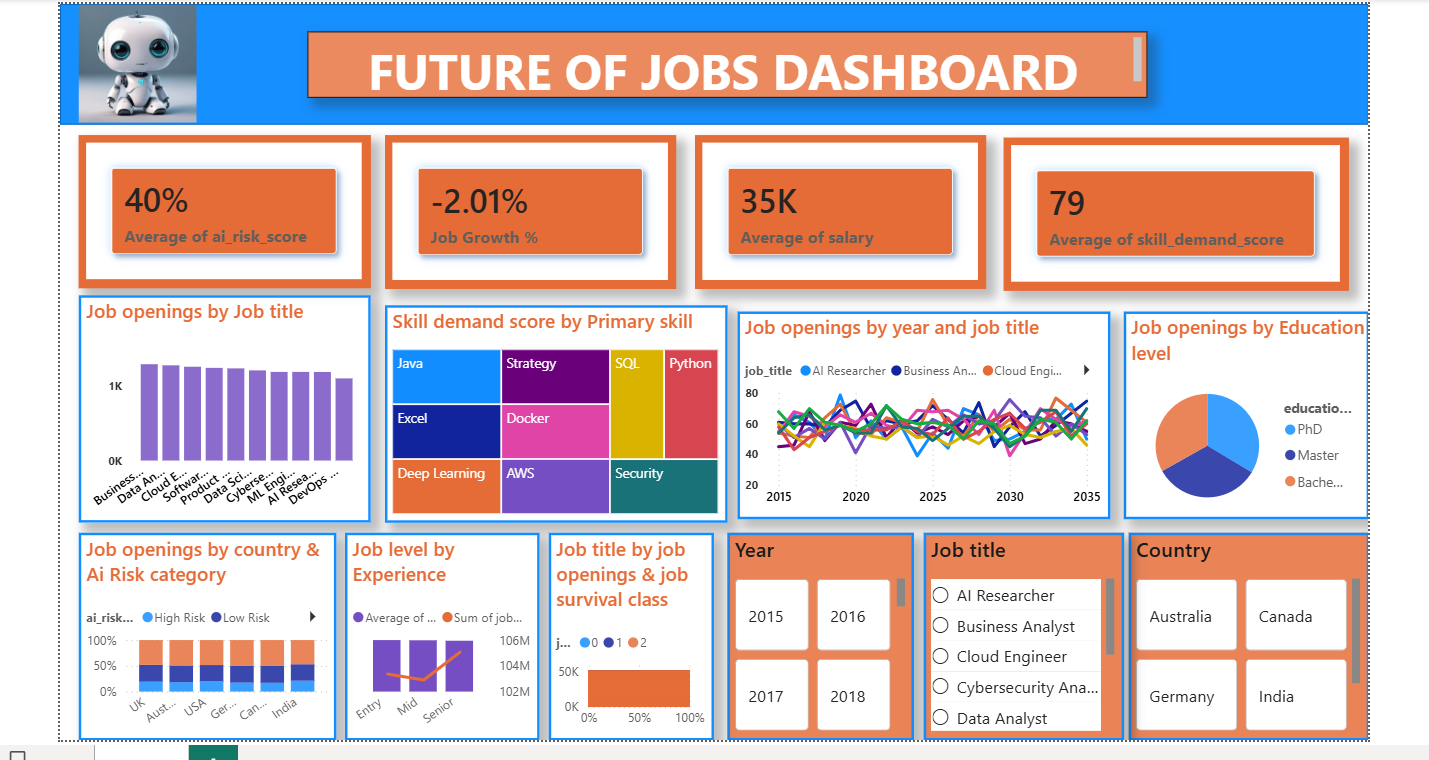

The dashboard page shown, as its layout file describes it:
{"tool":"powerbi","page":{"name":"Page 1","canvas":[1280,720],"ordinal":0},"visuals":[{"type":"shape","box":[0,0,1280.3,118],"z":0},{"type":"textbox","box":[241.5,27.4,822,64.5],"z":1000},{"type":"image","box":[17.8,0,115.3,116.6],"z":2000},{"type":"cardVisual","fields":{"Data":["Avg(Future of Jobs AI Dataset.ai_risk_score)"]},"box":[18.3,128.4,285.4,149.6],"z":3000},{"type":"cardVisual","fields":{"Data":["Avg(Future of Jobs AI Dataset.salary)"]},"box":[621.6,129,285,150],"z":4000},{"type":"cardVisual","fields":{"Data":["Future of Jobs AI Dataset.Job Growth %"]},"box":[318.4,129,285,150],"z":5000},{"type":"cardVisual","fields":{"Data":["Avg(Future of Jobs AI Dataset.skill_demand_score)"]},"box":[923.5,130.4,337.6,149.6],"z":6000},{"type":"columnChart","title":"Job openings by Job title","fields":{"Category":["Future of Jobs AI Dataset.job_title"],"Y":["Count(Future of Jobs AI Dataset.job_openings)"]},"box":[17.8,285.4,285.4,222.3],"z":7000},{"type":"treemap","title":" Skill demand score by Primary skill","fields":{"Group":["Future of Jobs AI Dataset.primary_skill"],"Values":["Avg(Future of Jobs AI Dataset.skill_demand_score)"]},"box":[318.4,295,334.8,212.7],"z":8000},{"type":"pieChart","title":"Job openings by Education level","fields":{"Category":["Future of Jobs AI Dataset.education_level"],"Y":["Avg(Future of Jobs AI Dataset.job_openings)"]},"box":[1040.1,300.5,240.1,203.1],"z":9000},{"type":"hundredPercentStackedColumnChart","title":" Job openings by country & Ai Risk category","fields":{"Category":["Future of Jobs AI Dataset.country"],"Series":["Future of Jobs AI Dataset.ai_risk_category"],"Y":["Sum(Future of Jobs AI Dataset.job_openings)"]},"box":[18.3,517.3,251.9,203],"z":10000},{"type":"lineChart","title":"Job openings by year and job title","fields":{"Category":["Future of Jobs AI Dataset.year"],"Y":["Count(Future of Jobs AI Dataset.job_openings)"],"Series":["Future of Jobs AI Dataset.job_title"]},"box":[662.8,300.8,364.4,203],"z":11000},{"type":"lineClusteredColumnComboChart","title":"Job level by Experience","fields":{"Category":["Future of Jobs AI Dataset.experience_level"],"Y2":["Sum(Future of Jobs AI Dataset.job_openings)"],"Y":["Avg(Future of Jobs AI Dataset.job_openings)"]},"box":[278.8,517.3,190.8,203],"z":12000},{"type":"advancedSlicerVisual","title":"Year ","fields":{"Values":["Future of Jobs AI Dataset.year"]},"box":[653,517.3,182.2,203],"z":13000},{"type":"advancedSlicerVisual","title":"Country","fields":{"Values":["Future of Jobs AI Dataset.country"]},"box":[1045,517,235,203],"z":14000},{"type":"hundredPercentStackedBarChart","title":"Job title by job openings  & job survival class","fields":{"Y":["CountNonNull(Future of Jobs AI Dataset.job_title)"],"Series":["Future of Jobs AI Dataset.job_survival_class"],"Category":["Future of Jobs AI Dataset.job_openings"]},"box":[478.1,517.3,161.4,203],"z":15000},{"type":"listSlicer","title":"Job title","fields":{"Values":["Future of Jobs AI Dataset.job_title"]},"box":[845,517.3,195.7,203],"z":15001}]}

Visuals, with their boxes in screenshot pixels (x1, y1, x2, y2):
shape: {"left": 60, "top": 0, "right": 1344, "bottom": 118}
textbox: {"left": 302, "top": 27, "right": 1126, "bottom": 92}
image: {"left": 77, "top": 0, "right": 193, "bottom": 117}
cardVisual - Avg(Future of Jobs AI Dataset.ai_risk_score): {"left": 78, "top": 129, "right": 364, "bottom": 279}
cardVisual - Avg(Future of Jobs AI Dataset.salary): {"left": 683, "top": 129, "right": 969, "bottom": 280}
cardVisual - Future of Jobs AI Dataset.Job Growth %: {"left": 379, "top": 129, "right": 665, "bottom": 280}
cardVisual - Avg(Future of Jobs AI Dataset.skill_demand_score): {"left": 986, "top": 131, "right": 1324, "bottom": 281}
"Job openings by Job title" columnChart: {"left": 77, "top": 286, "right": 364, "bottom": 509}
" Skill demand score by Primary skill" treemap: {"left": 379, "top": 296, "right": 715, "bottom": 509}
"Job openings by Education level" pieChart: {"left": 1103, "top": 301, "right": 1344, "bottom": 505}
" Job openings by country & Ai Risk category" hundredPercentStackedColumnChart: {"left": 78, "top": 519, "right": 331, "bottom": 722}
"Job openings by year and job title" lineChart: {"left": 724, "top": 302, "right": 1090, "bottom": 505}
"Job level by Experience" lineClusteredColumnComboChart: {"left": 339, "top": 519, "right": 531, "bottom": 722}
"Year " advancedSlicerVisual: {"left": 714, "top": 519, "right": 897, "bottom": 722}
"Country" advancedSlicerVisual: {"left": 1108, "top": 519, "right": 1343, "bottom": 722}
"Job title by job openings  & job survival class" hundredPercentStackedBarChart: {"left": 539, "top": 519, "right": 701, "bottom": 722}
"Job title" listSlicer: {"left": 907, "top": 519, "right": 1103, "bottom": 722}
